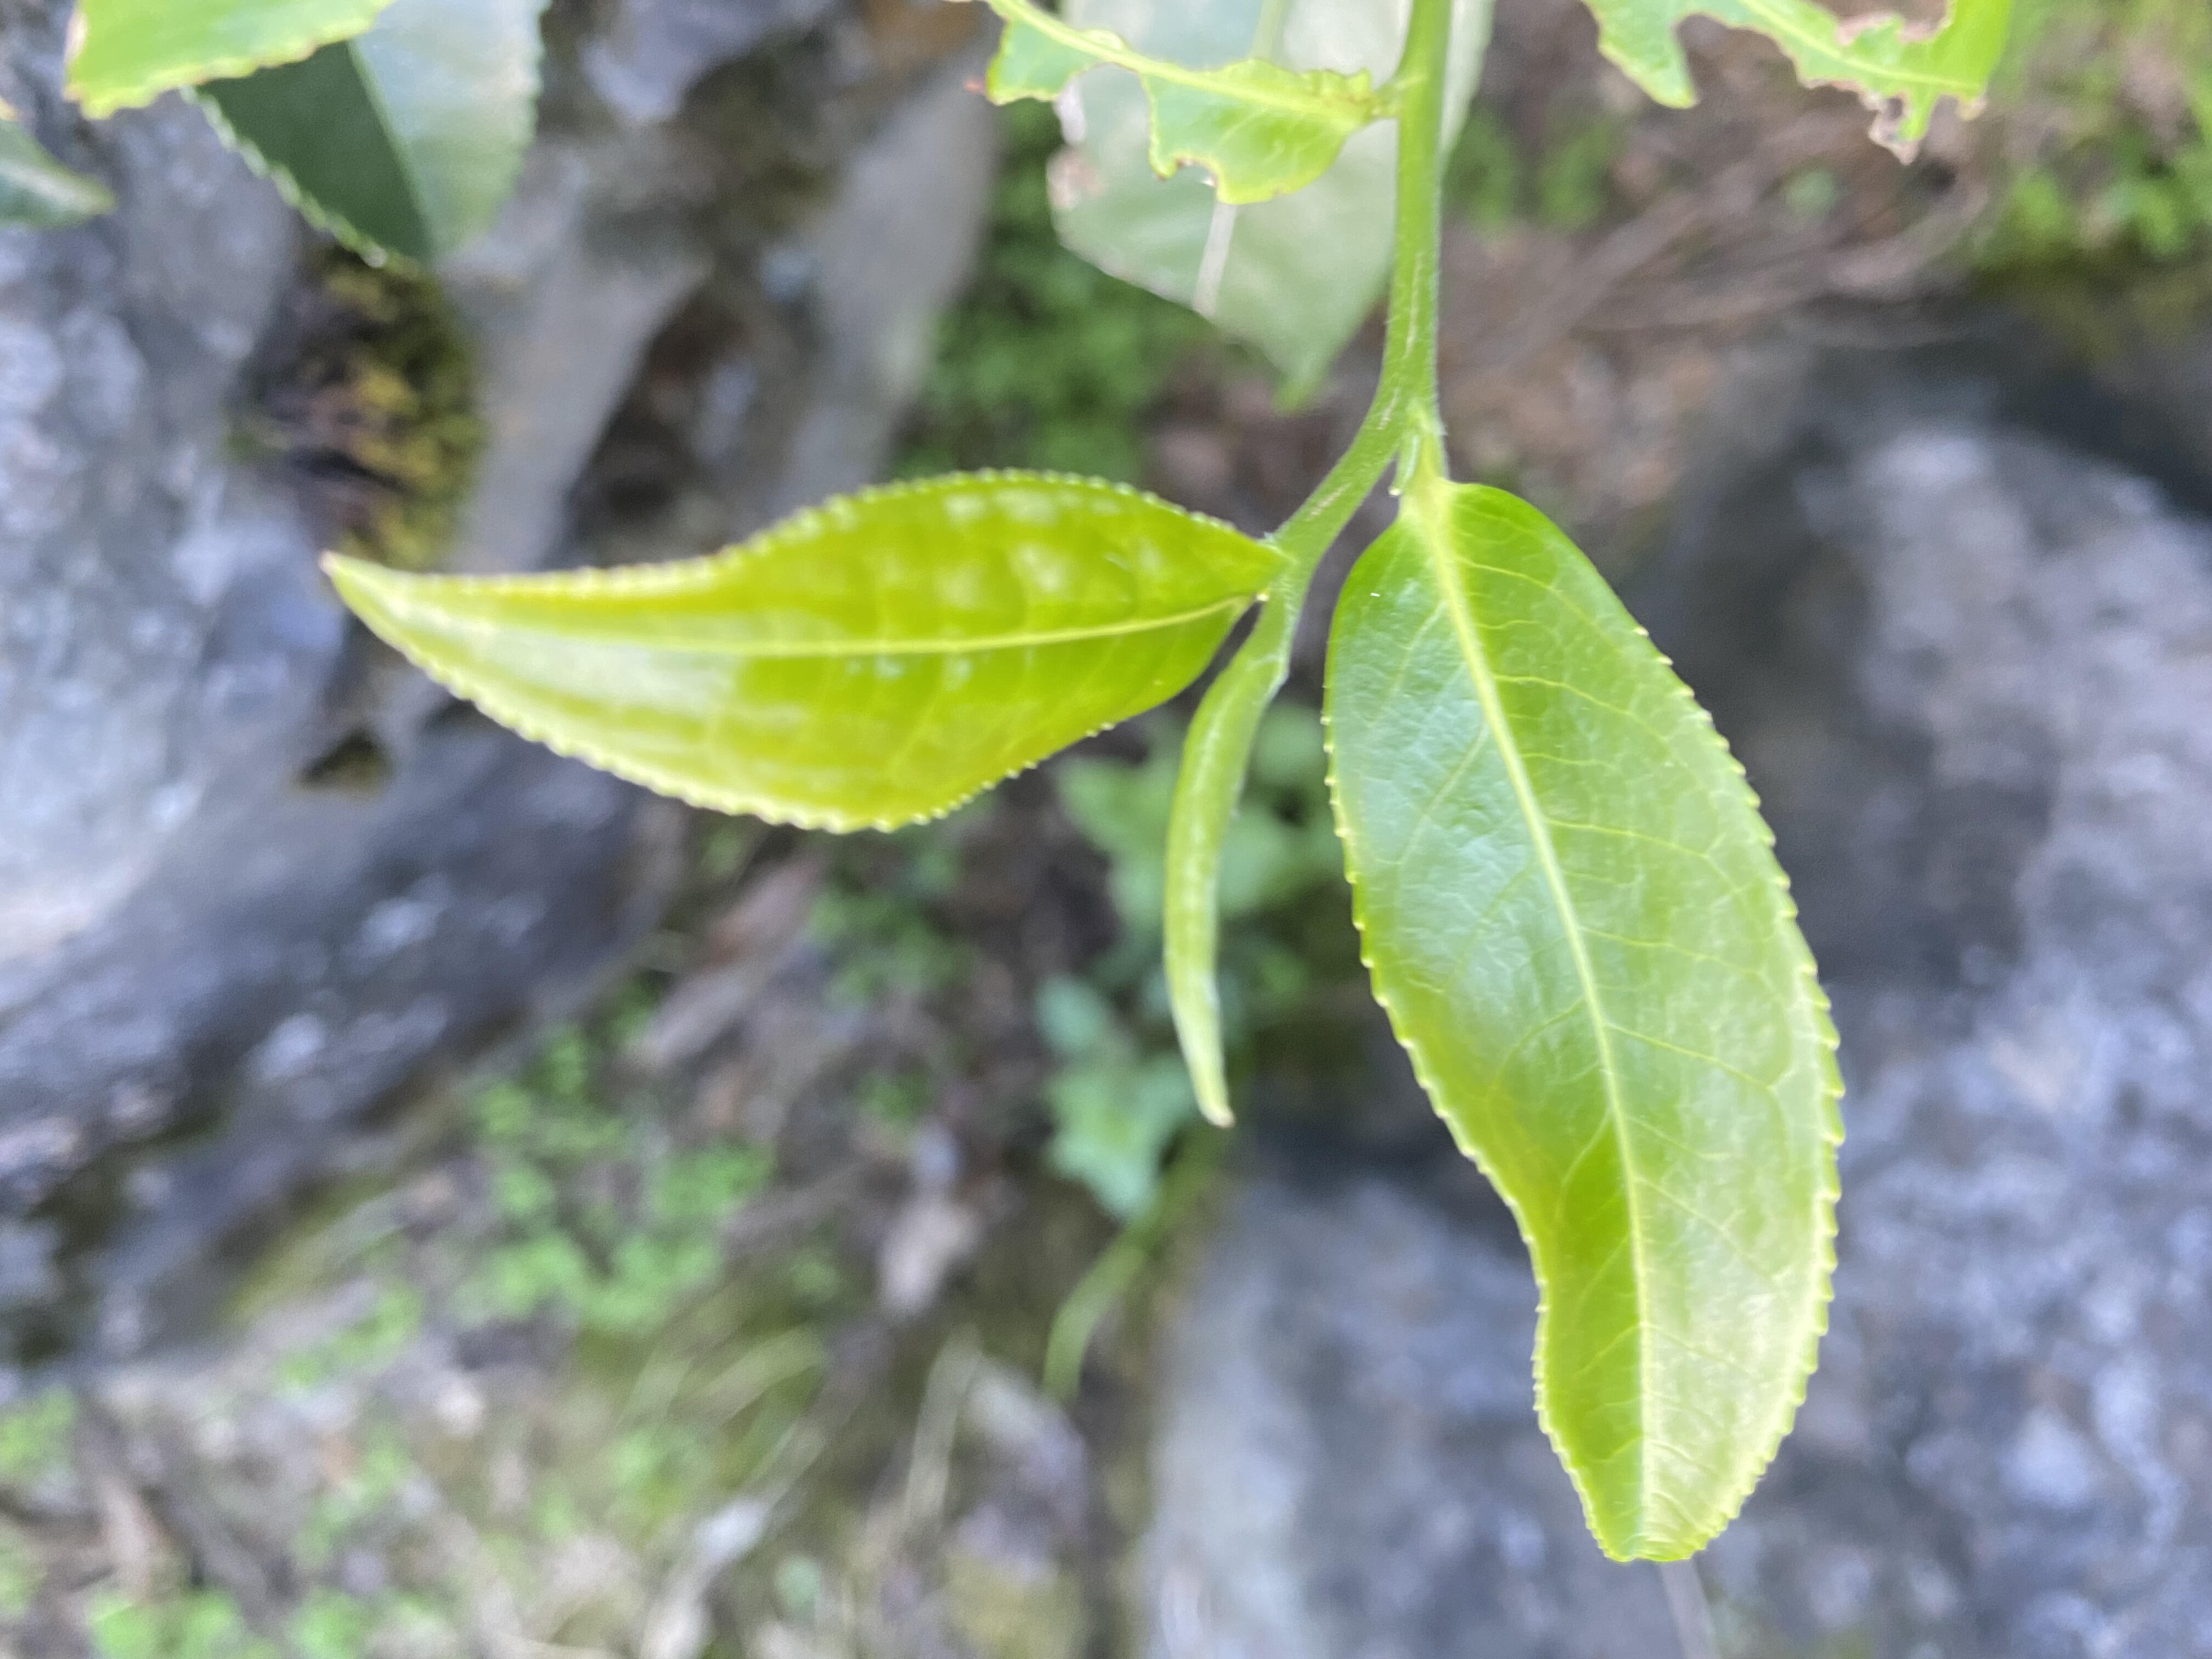chihuo_high: (963, 3, 1376, 207), (1573, 3, 2026, 169)
healthy: (1315, 481, 1855, 1570), (319, 465, 1277, 842)
